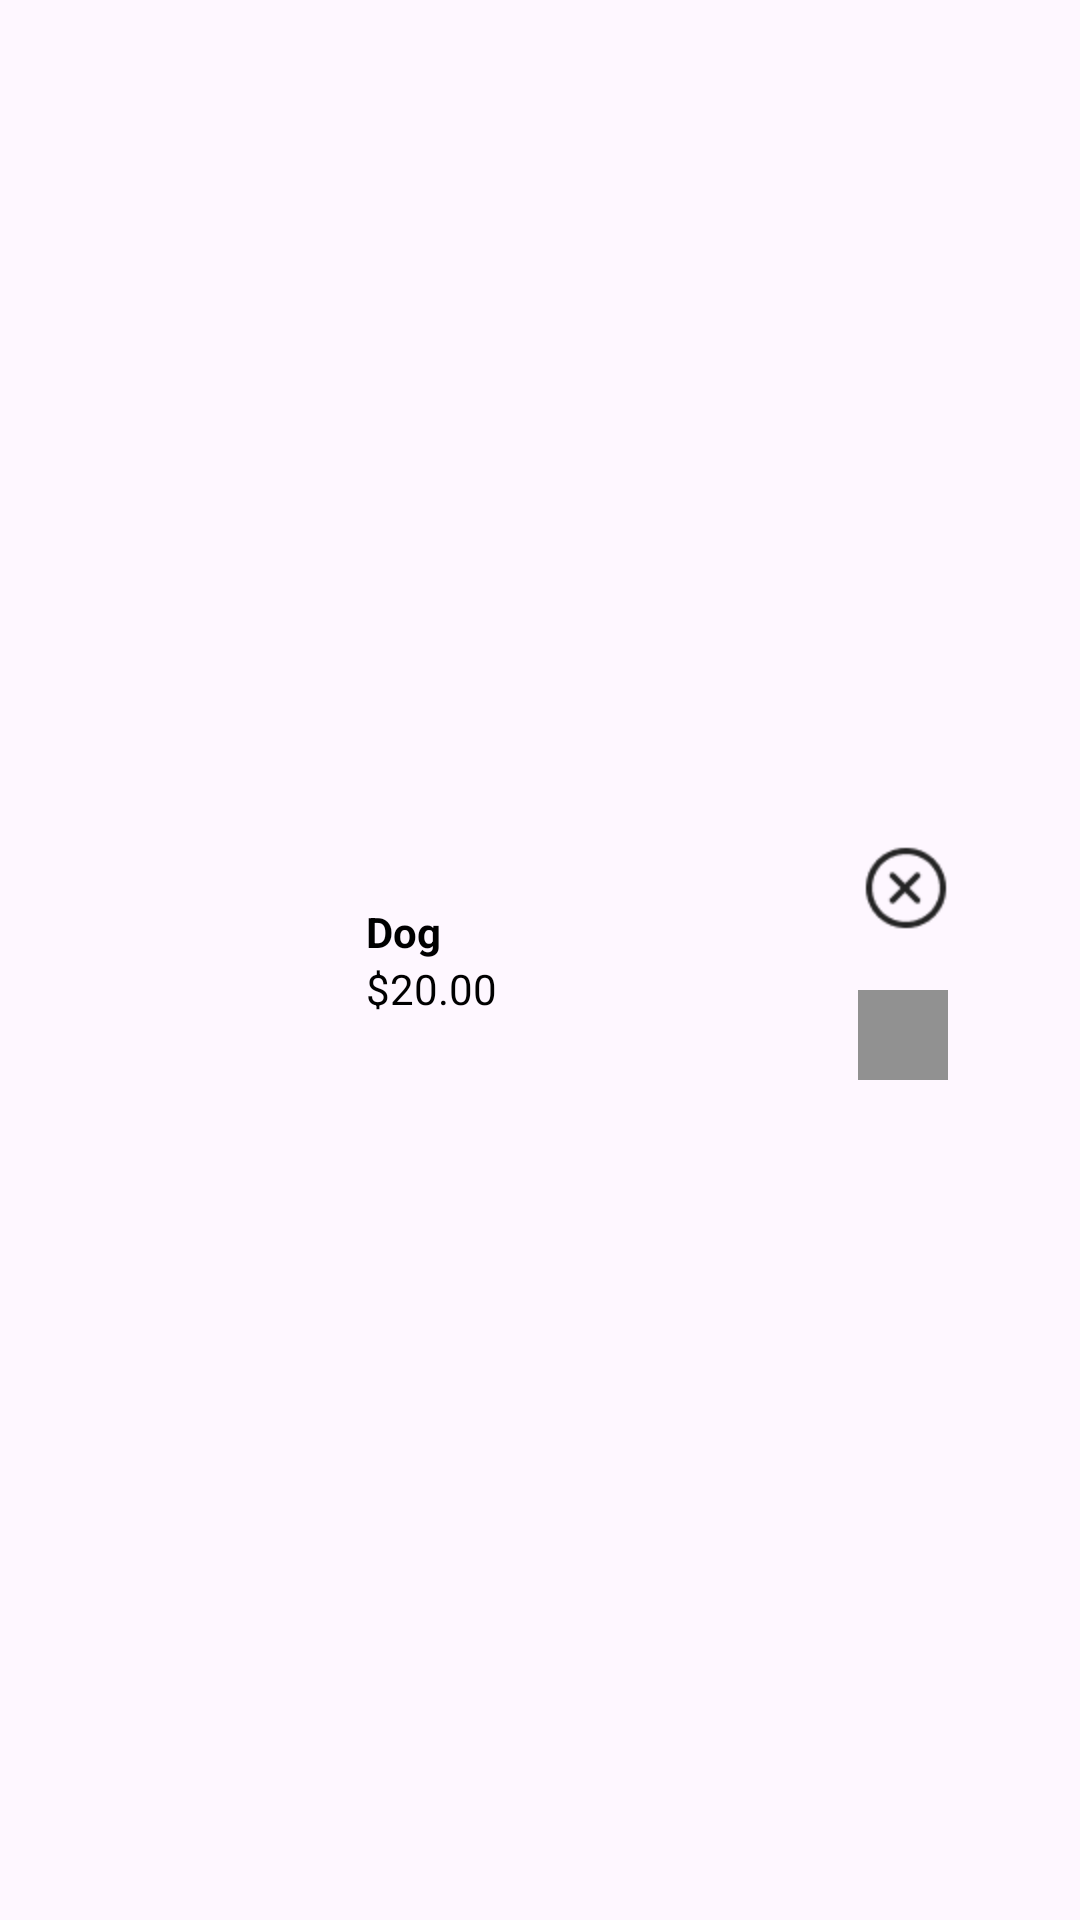

Icons on this 1080 x 1920 Android screen, each with the point to tap as (x,y):
Remove Icon: (906,888)
